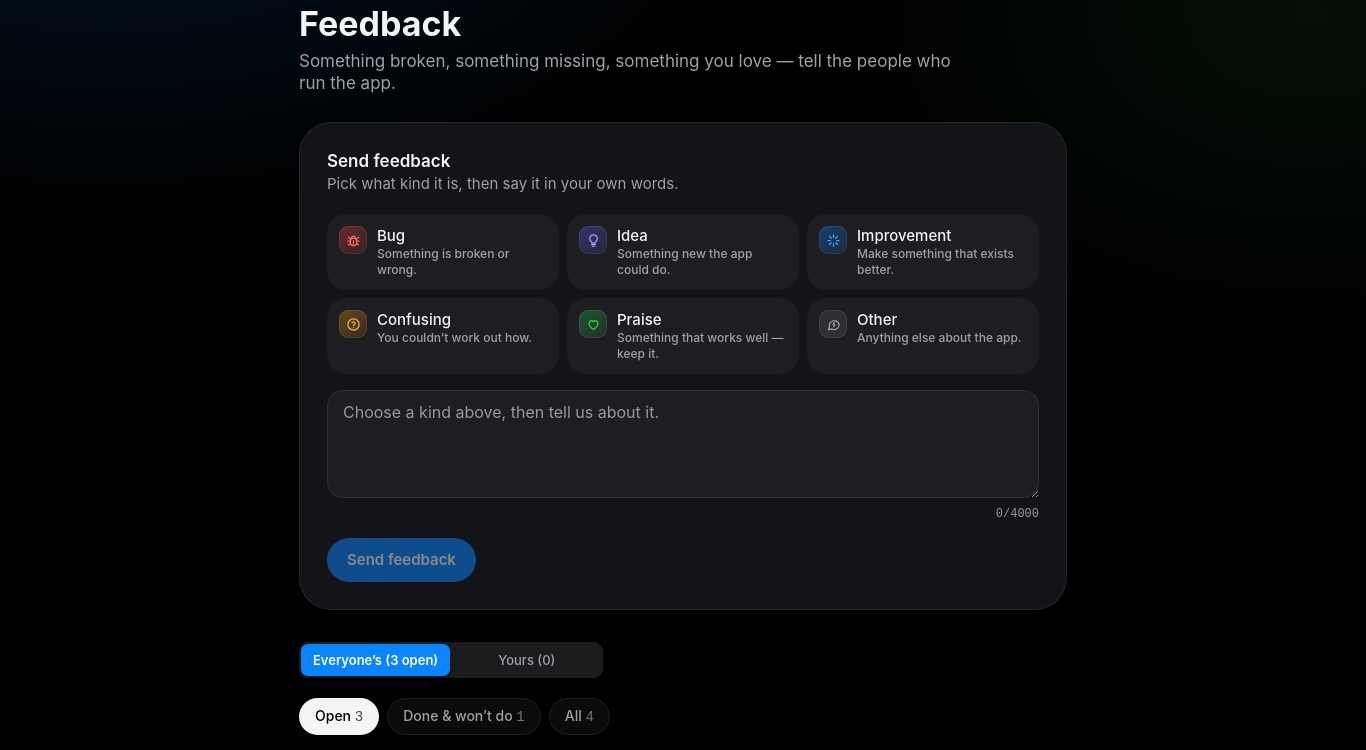
for the Owner › groups everybody’s open feedback by kind, bugs first
Expected: the text "Dark mode" is not shown
Click the radio button labelled "All 4". click: click(579, 716)
box: 549,698 -> 610,735
(page scrolled)
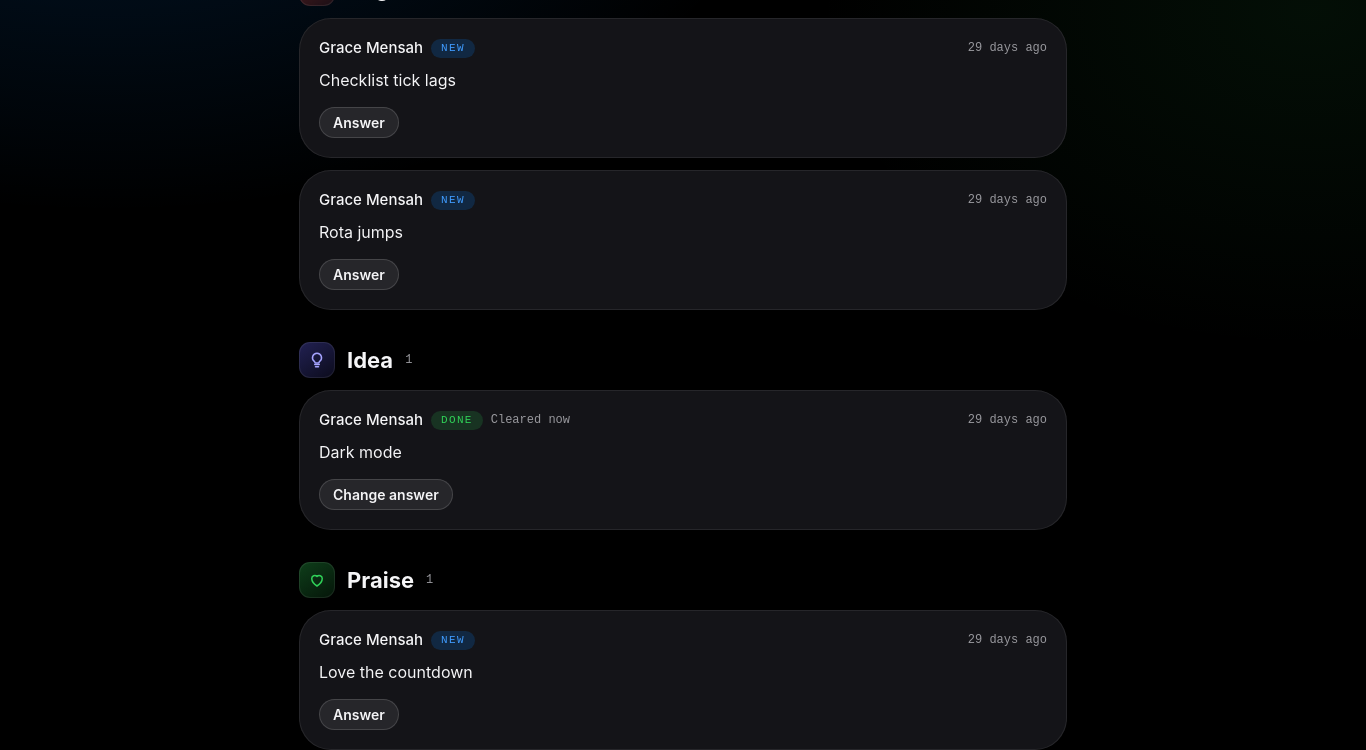
Now the text "Dark mode" is shown, box 319,442 -> 402,462
